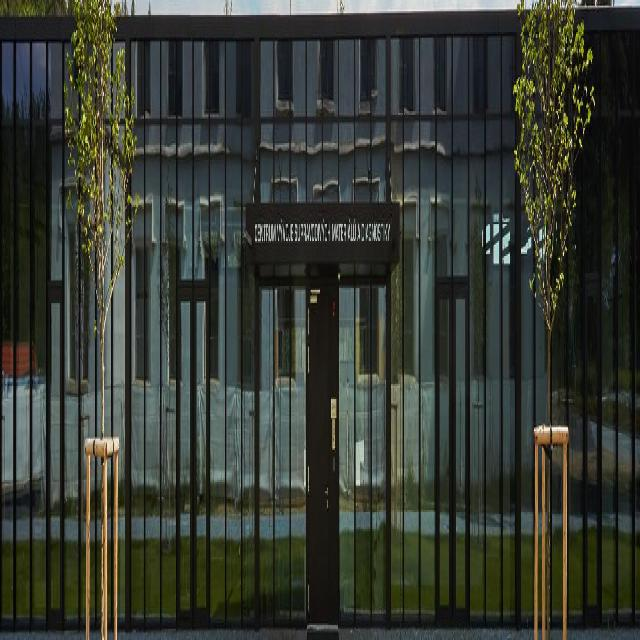door: (434, 272, 470, 623), (304, 271, 340, 621), (174, 289, 210, 626)
window: (0, 30, 639, 620)
